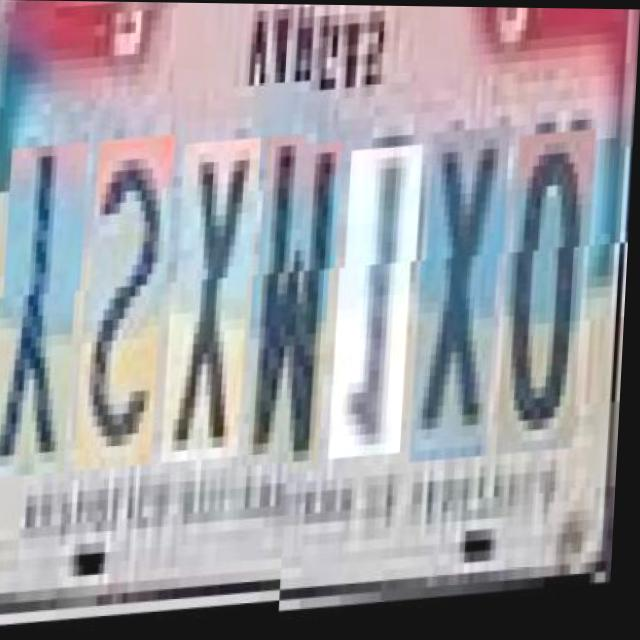1: (337, 141, 424, 456)
m: (251, 137, 343, 472)
o: (505, 129, 597, 455)
s: (84, 137, 177, 475)
x: (418, 125, 510, 461), (170, 143, 262, 469)
y: (0, 143, 90, 480)
